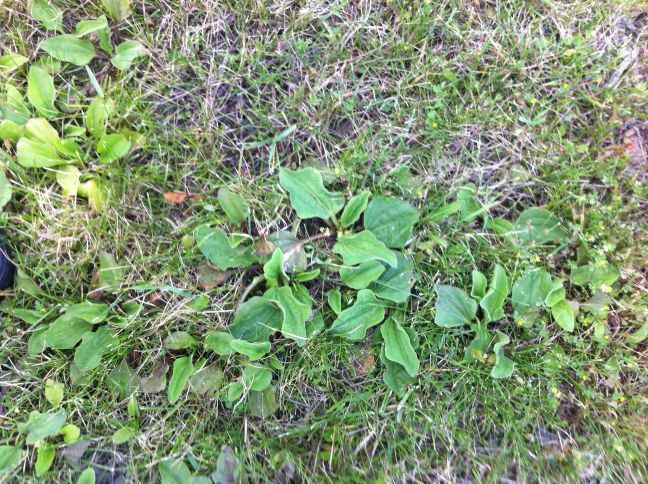weed1: (9, 1, 149, 201), (152, 287, 336, 412), (265, 153, 406, 303), (422, 257, 577, 382), (30, 282, 142, 411), (445, 176, 577, 258)
